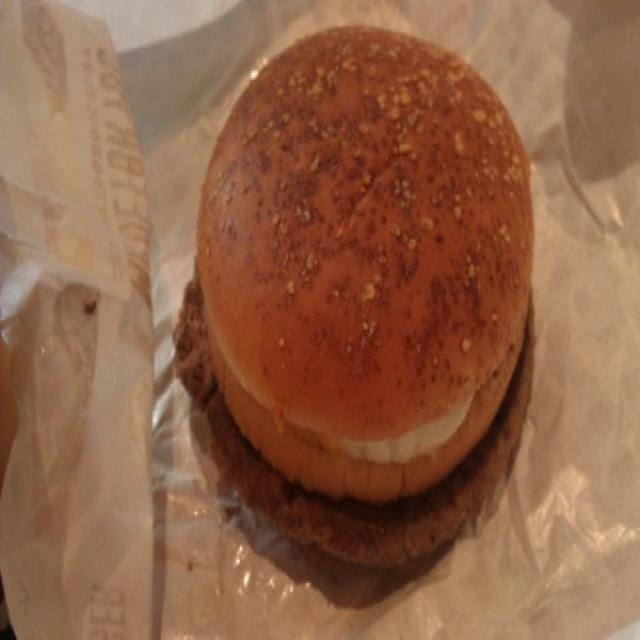Hamburger: (180, 19, 547, 584)
